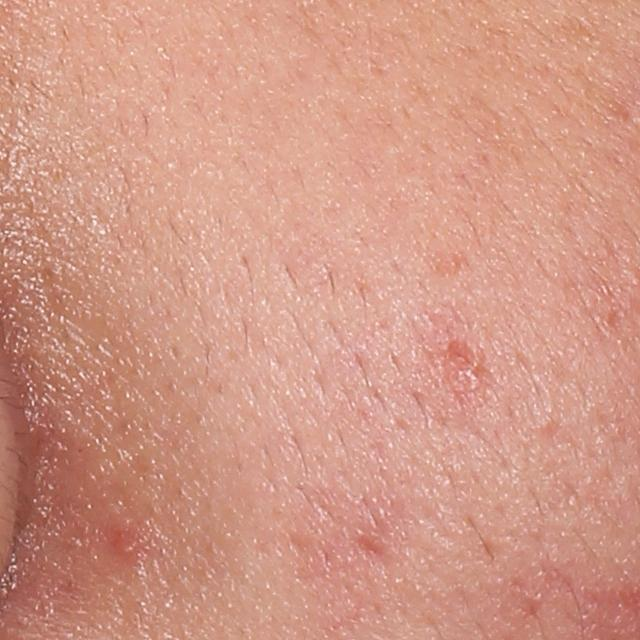papule: (443, 344, 489, 390), (107, 525, 147, 562)
